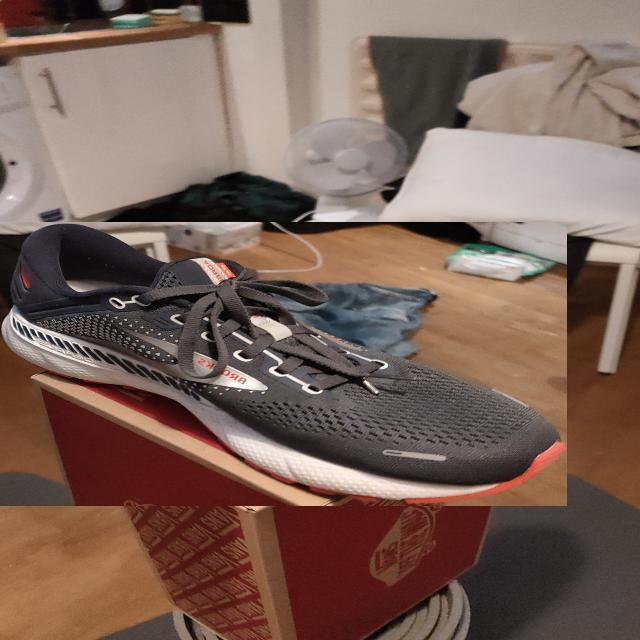shoe: (0, 222, 567, 506)
